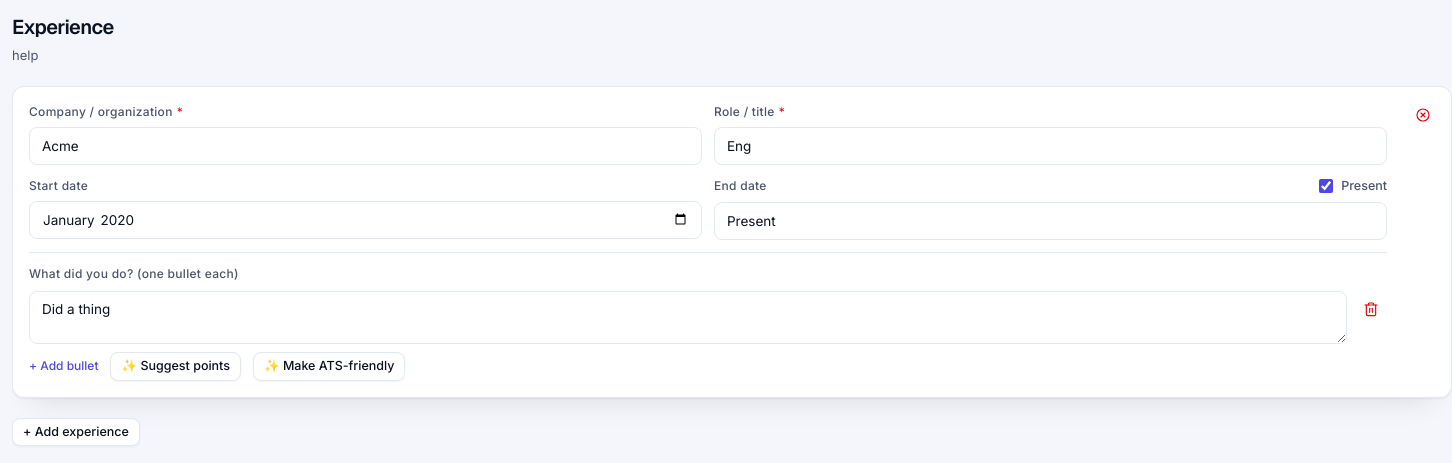
ExperienceForm (experience) › hides the AI button once the free quota is hit
Click the button "✨ Make ATS-friendly" at (329, 366), box [253,352,405,381]
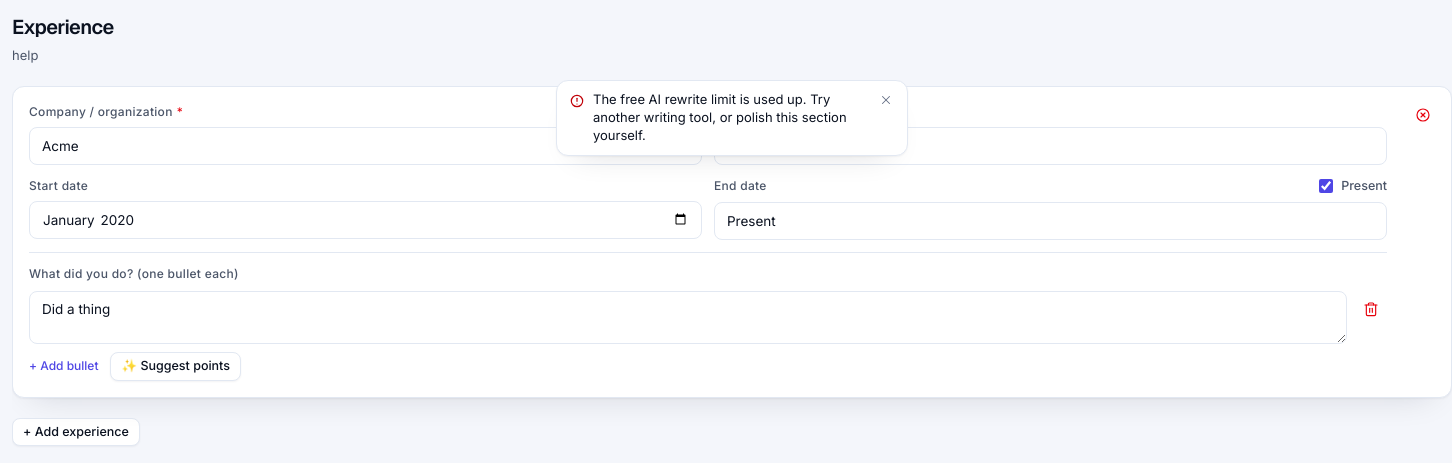
Check: the button "Make ATS-friendly" is gone
Check: the message shows "free AI rewrite limit is used up", box [593,91,847,143]
